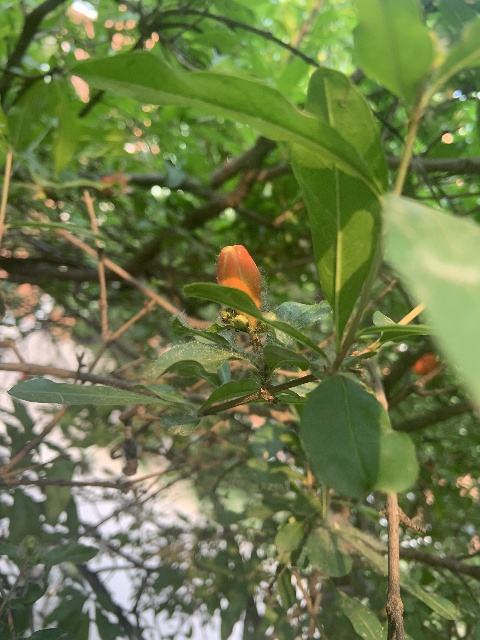bud: (216, 244, 261, 328)
